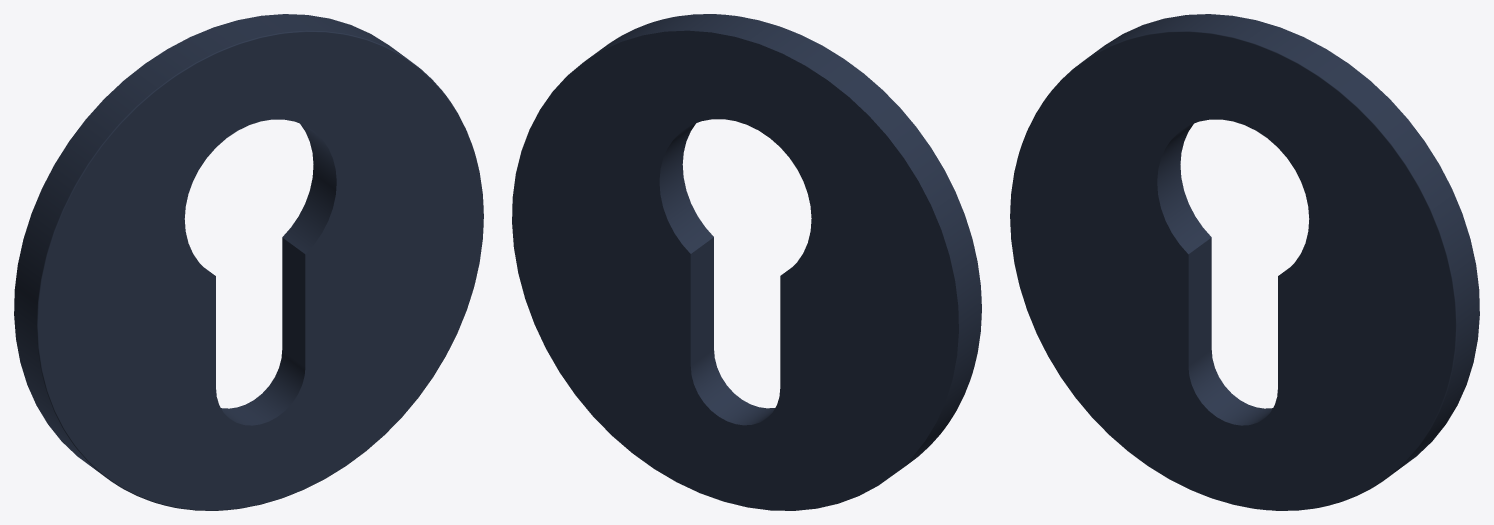
File: Bocallave.glb
3 renders of one model, left to right at view 1: azimuth 30°, elevation 25°; view 2: azimuth 150°, elevation 25°; view 3: azimuth 330°, elevation 25°, orthographic.
Visible parts, largest first — view 1: Mesh_0; view 2: Mesh_0; view 3: Mesh_0.
Part boxes in pixels (x1,y1,x2,y2): Mesh_0: [14, 14, 483, 510]; Mesh_0: [512, 14, 981, 510]; Mesh_0: [1010, 14, 1479, 510].
Bounding box in the file's own units: 0.05 × 0.05 × 0.00451.
